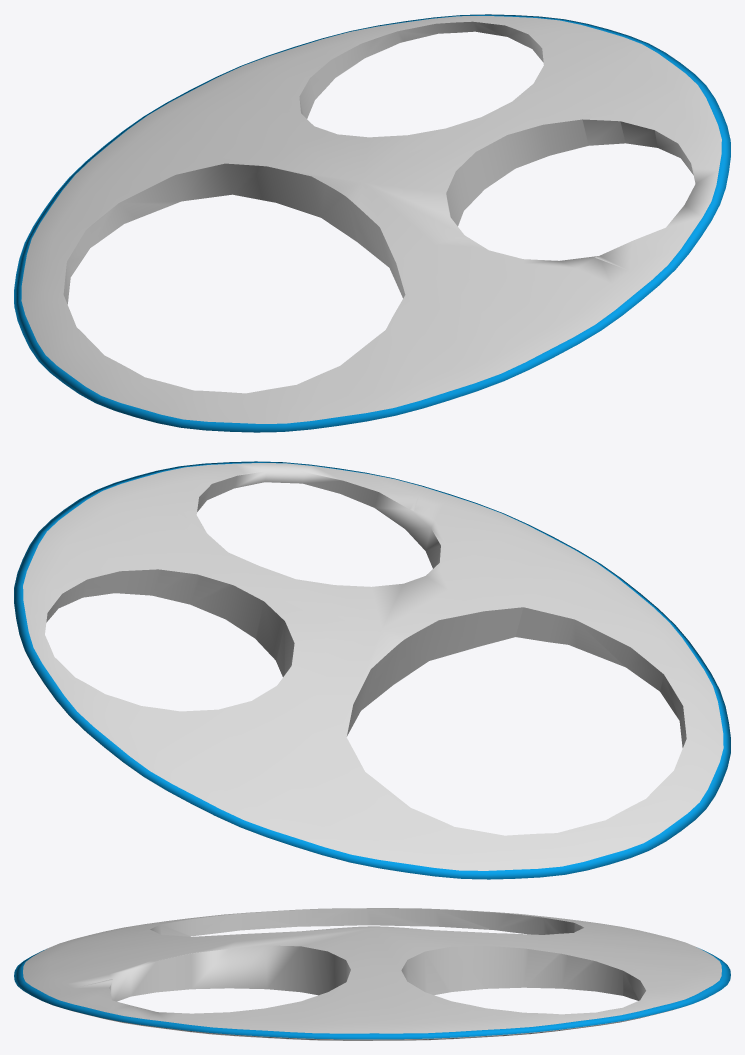
File: ToothBrushHolder_Top.fbx
The picture shows the model from 3 angles, top to bottom: view 1: azimuth 30°, elevation 25°; view 2: azimuth 150°, elevation 25°; view 3: azimuth 270°, elevation 25°; orthographic projection.
Parts seen in each view (by area): view 1: polySurface3; view 2: polySurface3; view 3: polySurface3.
Part boxes in pixels (x1=…): polySurface3: x1=14, y1=14, x2=730, y2=432; polySurface3: x1=14, y1=461, x2=730, y2=879; polySurface3: x1=14, y1=908, x2=730, y2=1040.
Bounding box in the file's own units: 1.99 × 0.5353 × 2.04.
